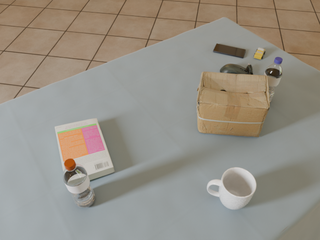book: (55, 118, 114, 180)
bottle: (63, 159, 95, 208), (264, 57, 283, 103)
box: (197, 72, 270, 137)
cup: (207, 168, 256, 210)
mouse: (220, 64, 253, 75)
phone: (213, 44, 246, 58)
toy_car: (254, 48, 265, 59)
